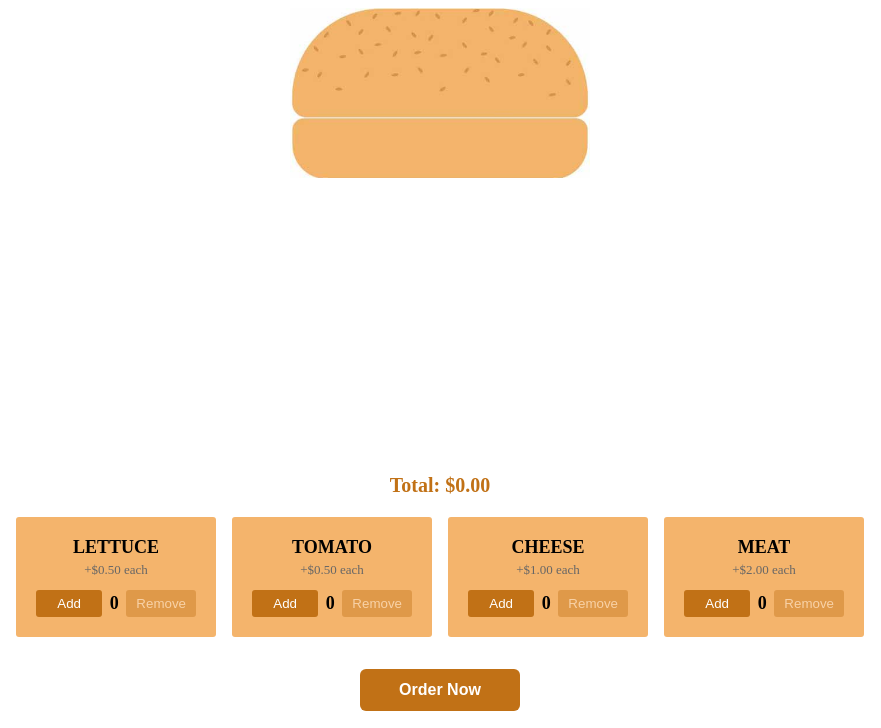
Test: Burger › adds lettuce and updates total to $0.50
The width and height of the screenshot is (881, 728).
Click the button "Add" below "Lettuce" at (69, 604), box [36,590,102,617]
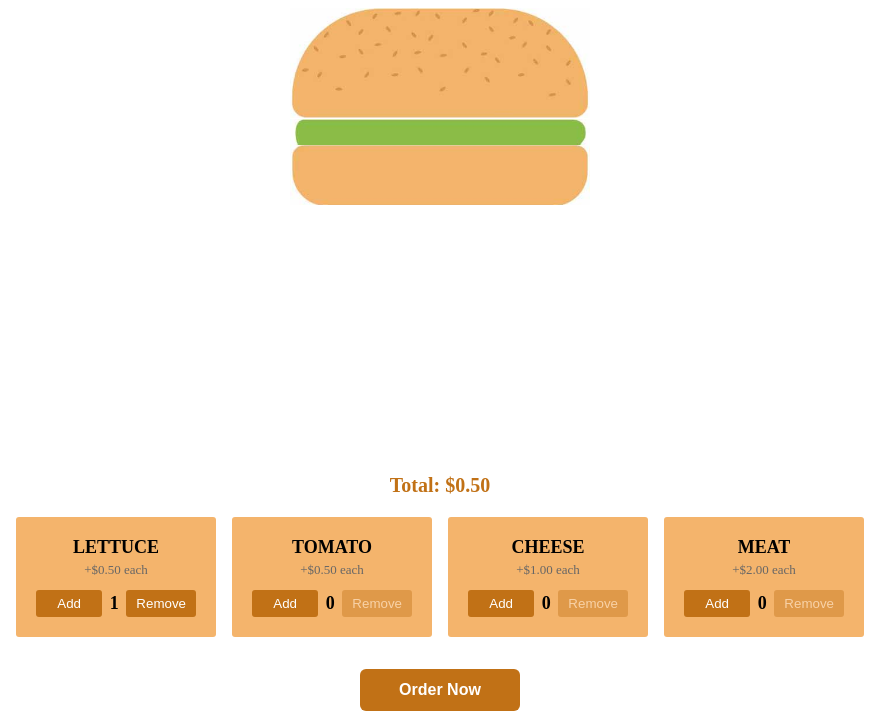
Expected: the text "Total: $0.50" is shown, [390,474,490,496]
